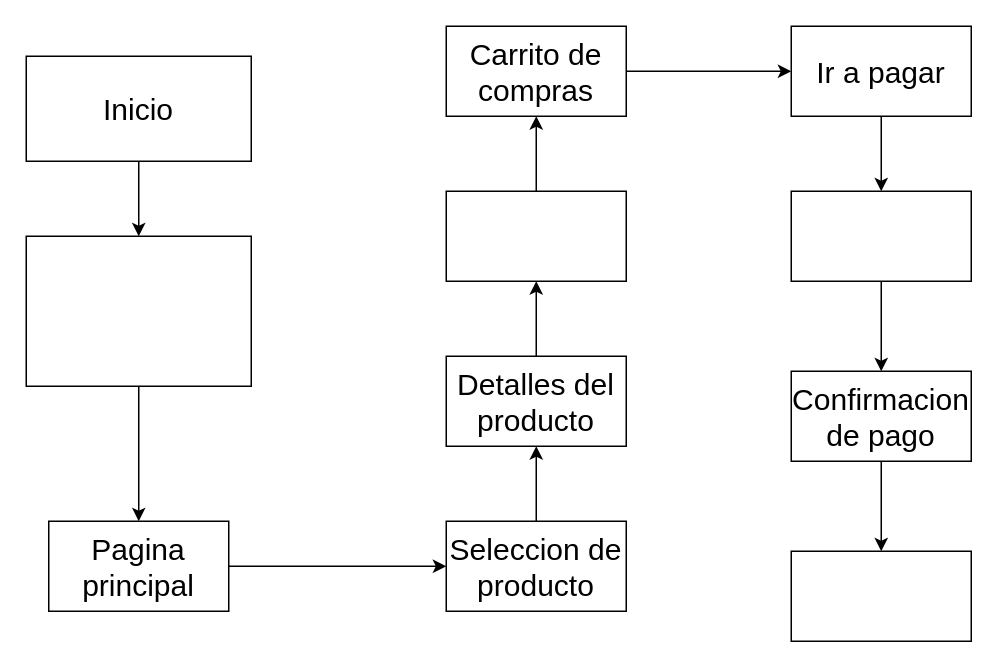
Image size: 998x668. Some labels were removed from this diagram. The centre of each missing label's shape, as x and y in pixels:
Añadir al carrito: pixel 535 235
Confirmacion de compra: pixel 880 595
Inicio de sesion / Registro: pixel 138 310
Proceso de pago: pixel 880 235
